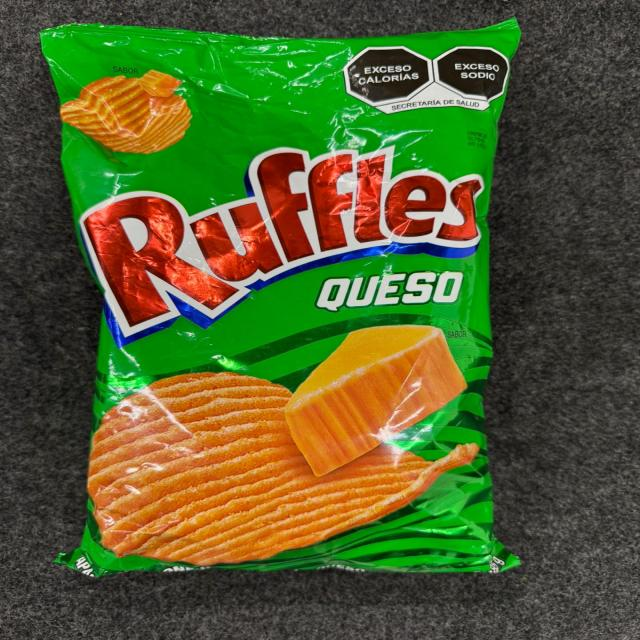RUFFLES QUESO 185GR: (25, 21, 549, 584)
